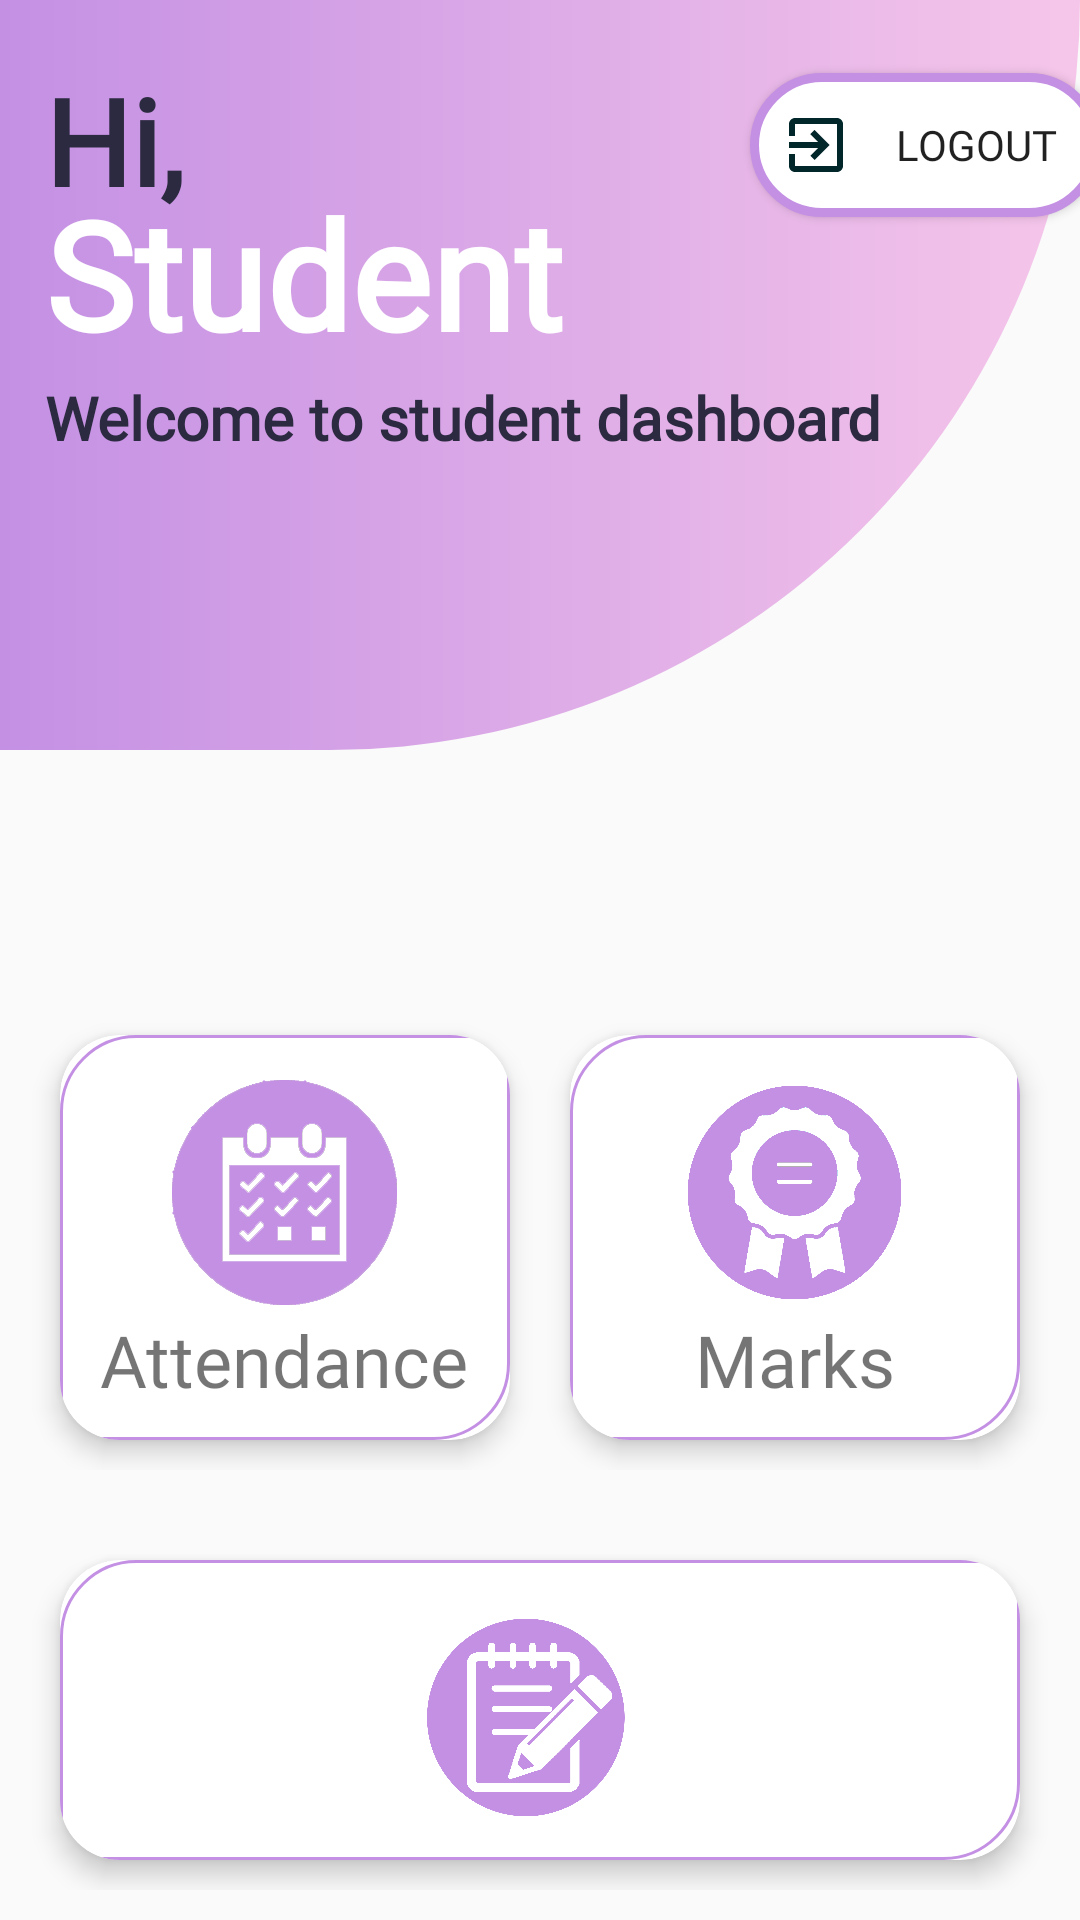

Named icons in this screenshot (1080px×1920px) and their bounding boxes, (x1, y1, x2, y2):
score card: (688, 1086, 901, 1299)
